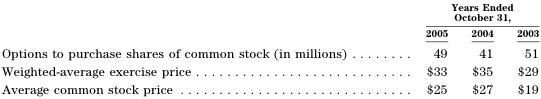table: (0, 0, 538, 95)
table column: (0, 0, 385, 95), (385, 0, 458, 95), (458, 0, 504, 95), (504, 0, 538, 95)
table column header: (0, 0, 538, 41)
table row: (0, 0, 538, 24), (0, 41, 538, 61), (0, 61, 538, 79), (0, 24, 538, 41), (0, 79, 538, 95)
table spanning cell: (385, 0, 538, 24)
